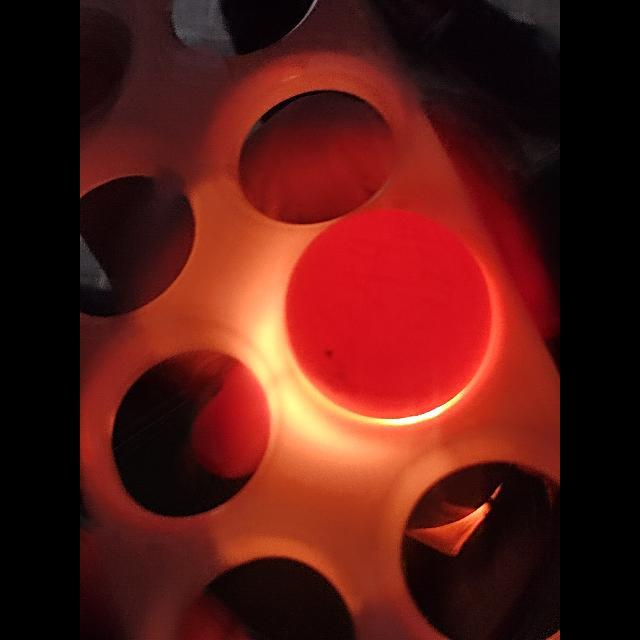Infertile: (278, 206, 496, 424)
